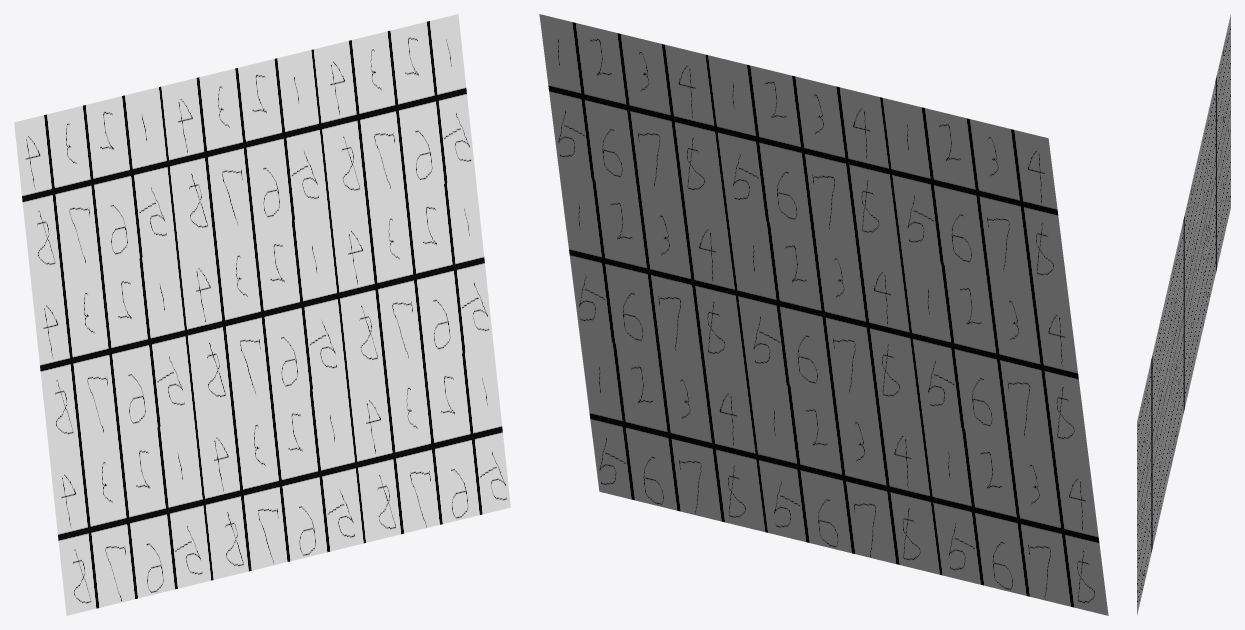
Rendered from tile.fbx.
3 views of the same model, side by side, from view 1: azimuth 30°, elevation 25°; view 2: azimuth 150°, elevation 25°; view 3: azimuth 270°, elevation 25° (orthographic). The views are drawn at different scales.
Visible parts, largest first — view 1: pPlane1; view 2: pPlane1; view 3: pPlane1.
Boxes of the visible parts, box(x1,y1,x2,y2) form: pPlane1: box(14, 14, 510, 615); pPlane1: box(539, 14, 1108, 615); pPlane1: box(1137, 14, 1230, 615).
Size of the model in its own units: 0.01 by 0.00979 by 0.00204.
1 material, 1 textured.
